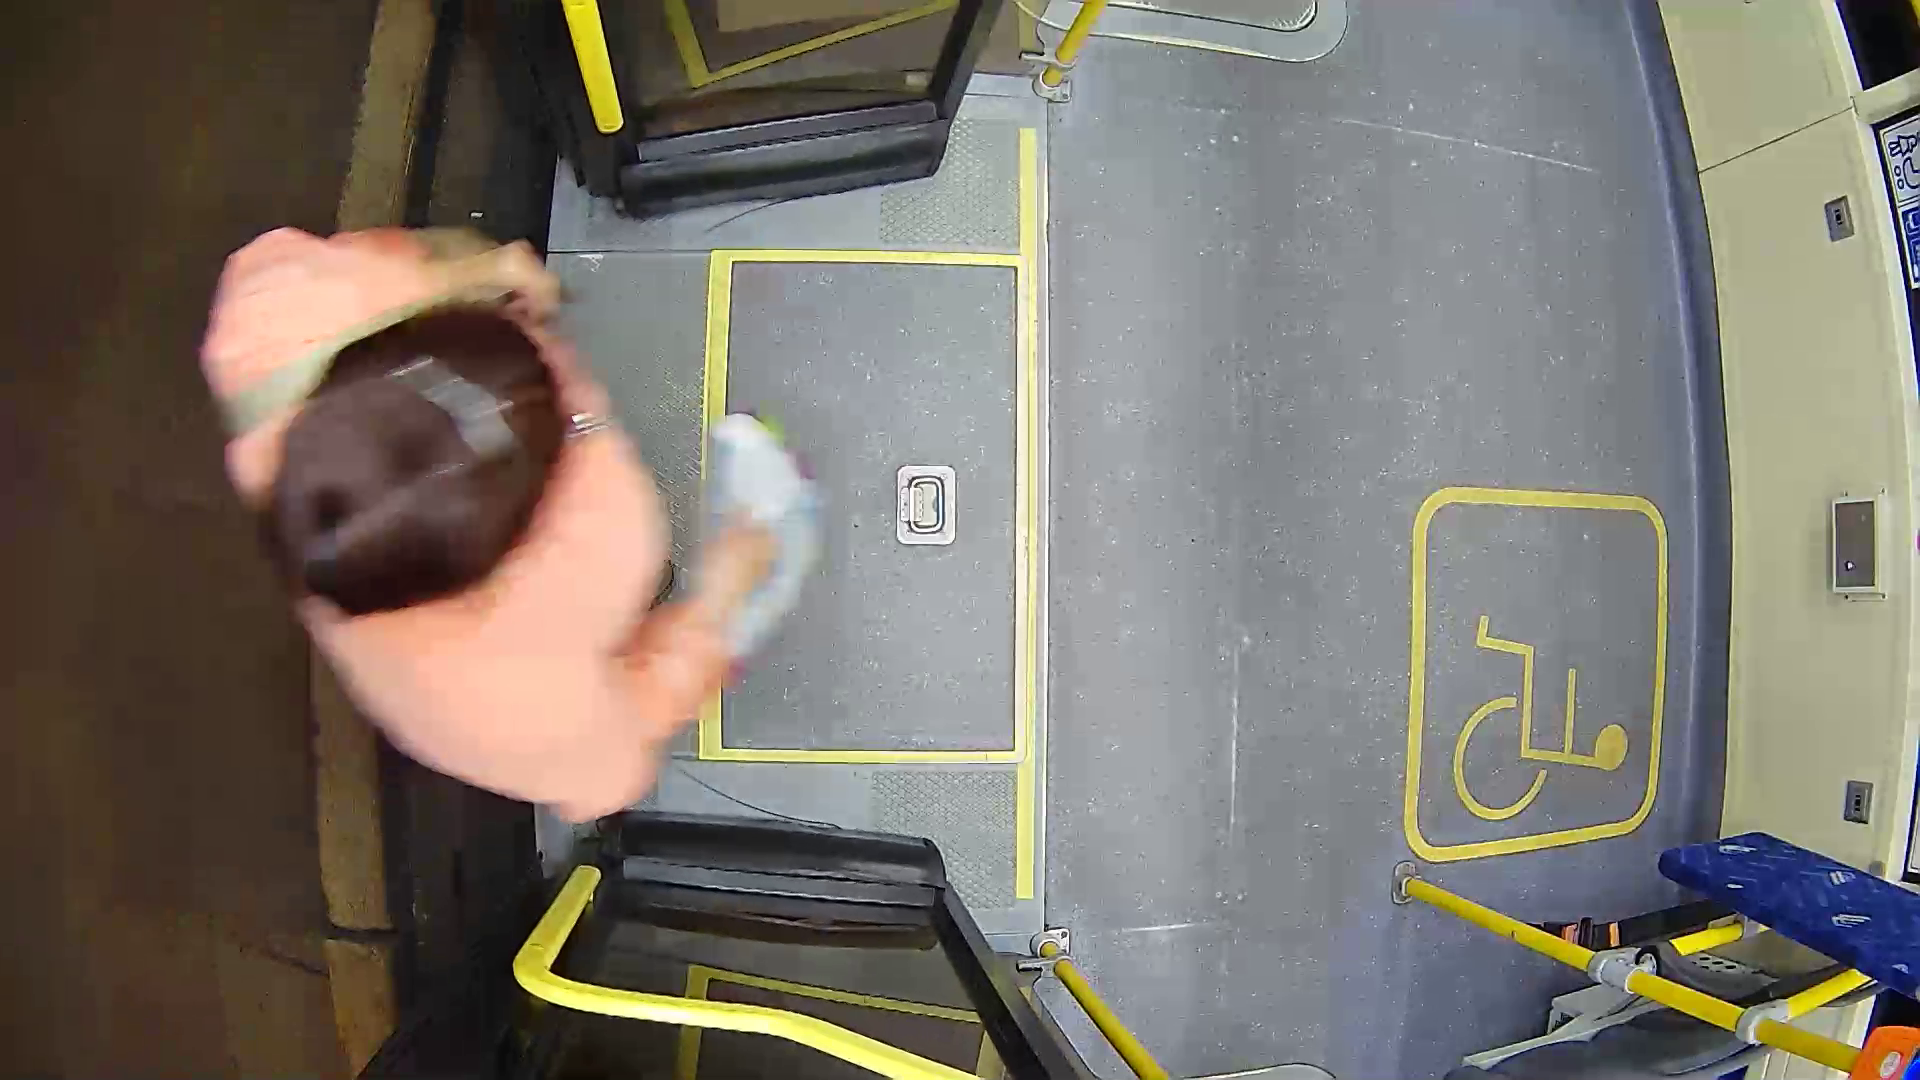person: (189, 205, 829, 814)
